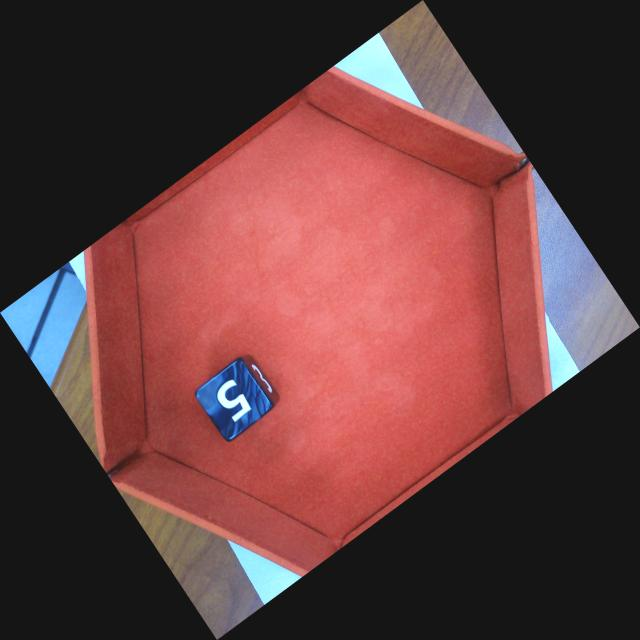dice: (195, 358, 274, 442)
